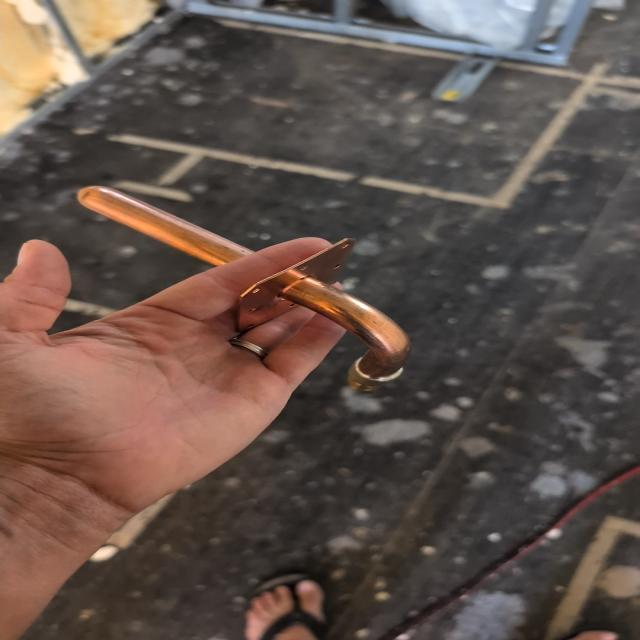wall_flange: (70, 180, 420, 400)
